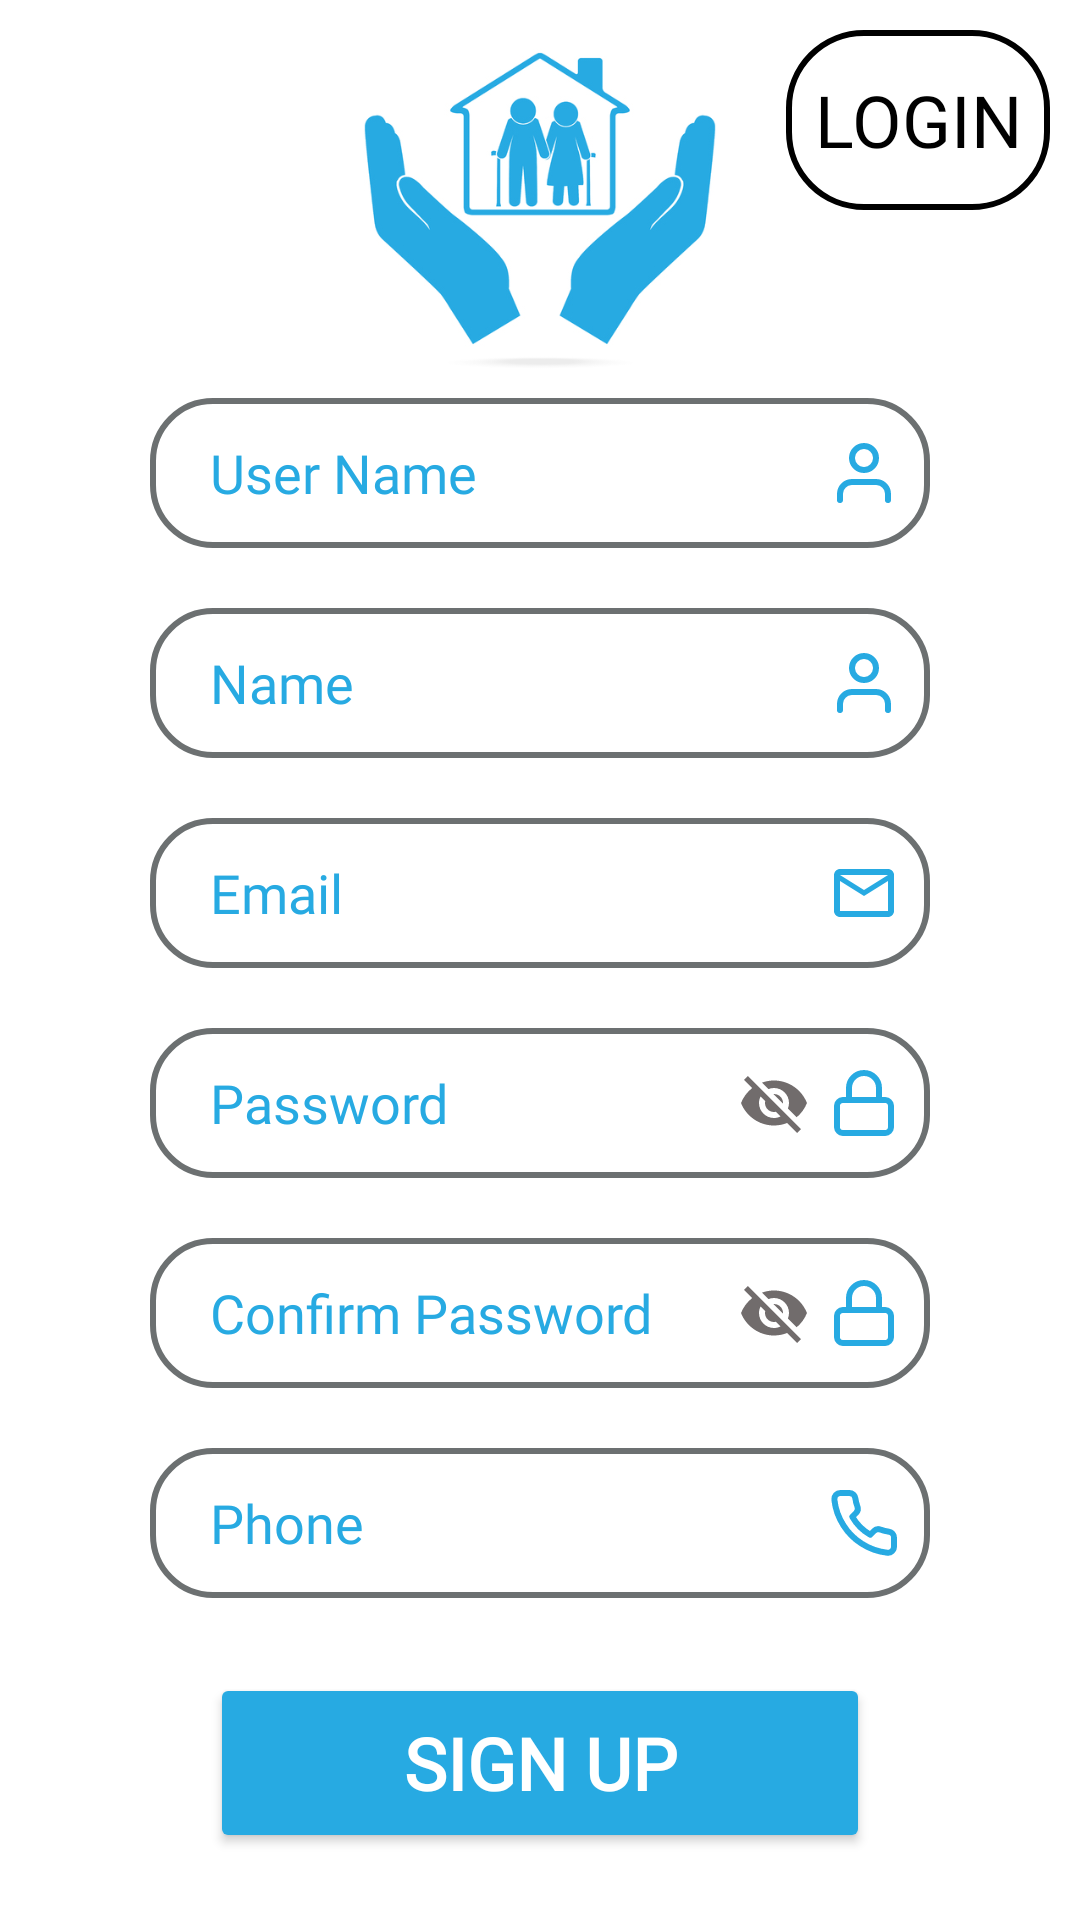

Where icons sit on this 1080px×1920px app screen, as (x1, y1, x2, y2):
visibility off: (741, 1076, 807, 1133), (741, 1286, 807, 1343)
